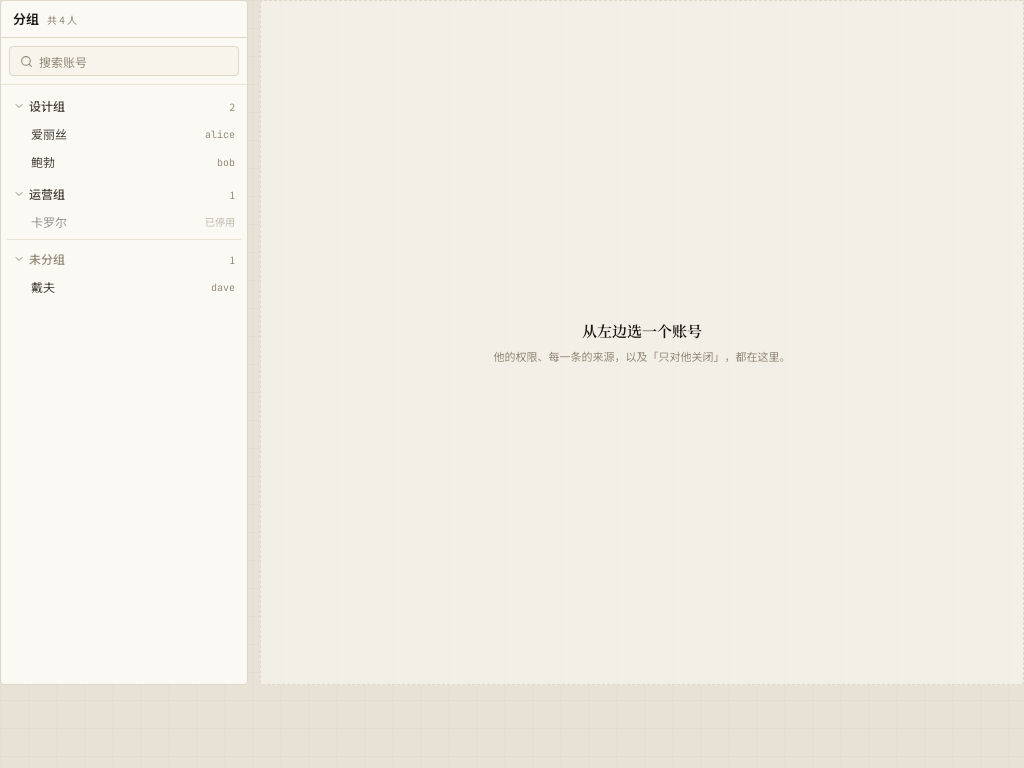
Test: PermissionsSection：左树选人，右侧看权限 › 搜索按账号或昵称过滤，且命中的组自动展开
Type "carol" into the search field labelled "搜索账号" at (134, 61), box x1=39 y1=47 x2=228 y2=75
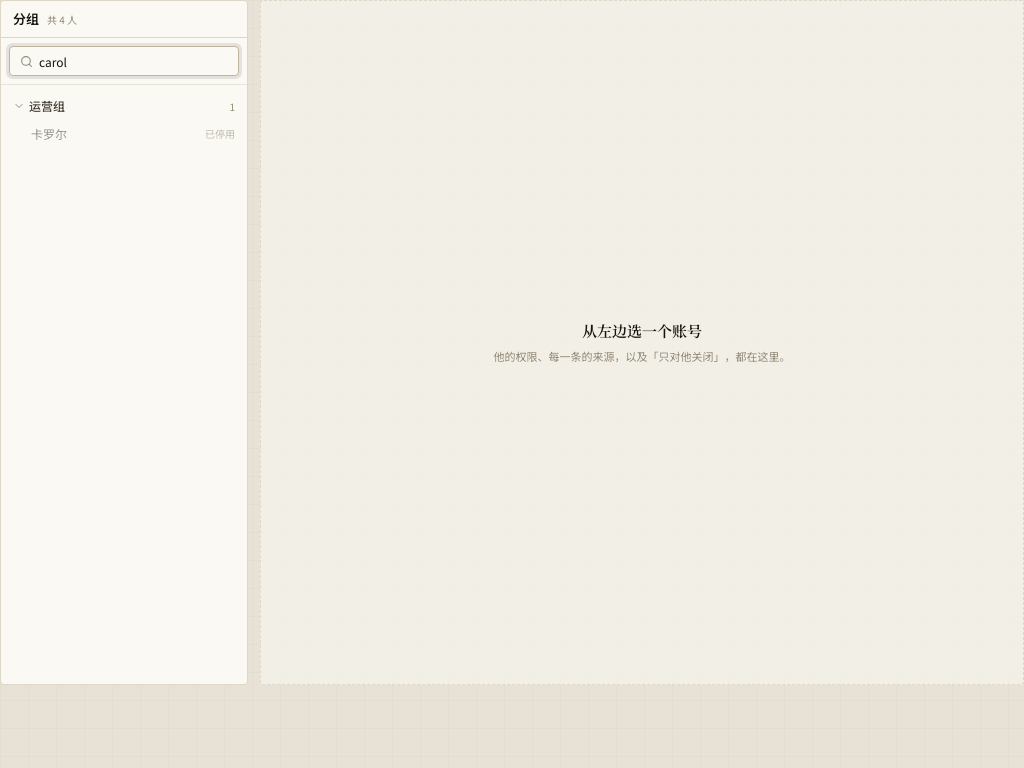
Expected: the text "卡罗尔" is shown, x1=31 y1=125 x2=67 y2=143
Expected: the button "设计组" is gone
